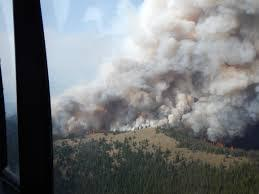yanwu: (53, 0, 259, 137)
